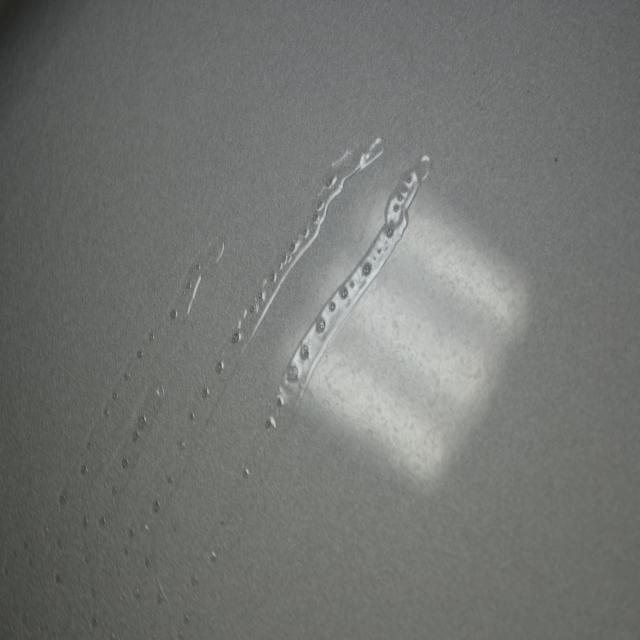runs: (0, 136, 428, 640)
